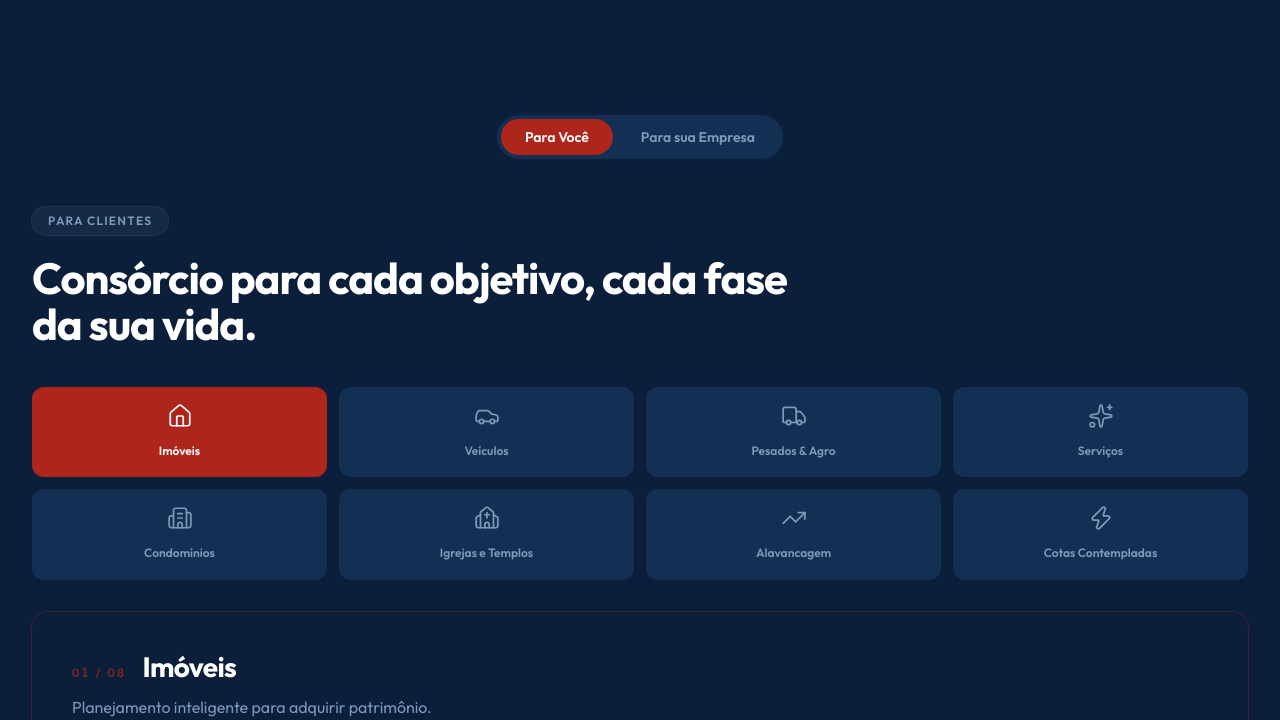
Test: ParaClientes › Tab toggle › switches to "Para sua Empresa" content on click
Click the button "Para sua Empresa". click: click(698, 137)
box: [617,119,779,155]
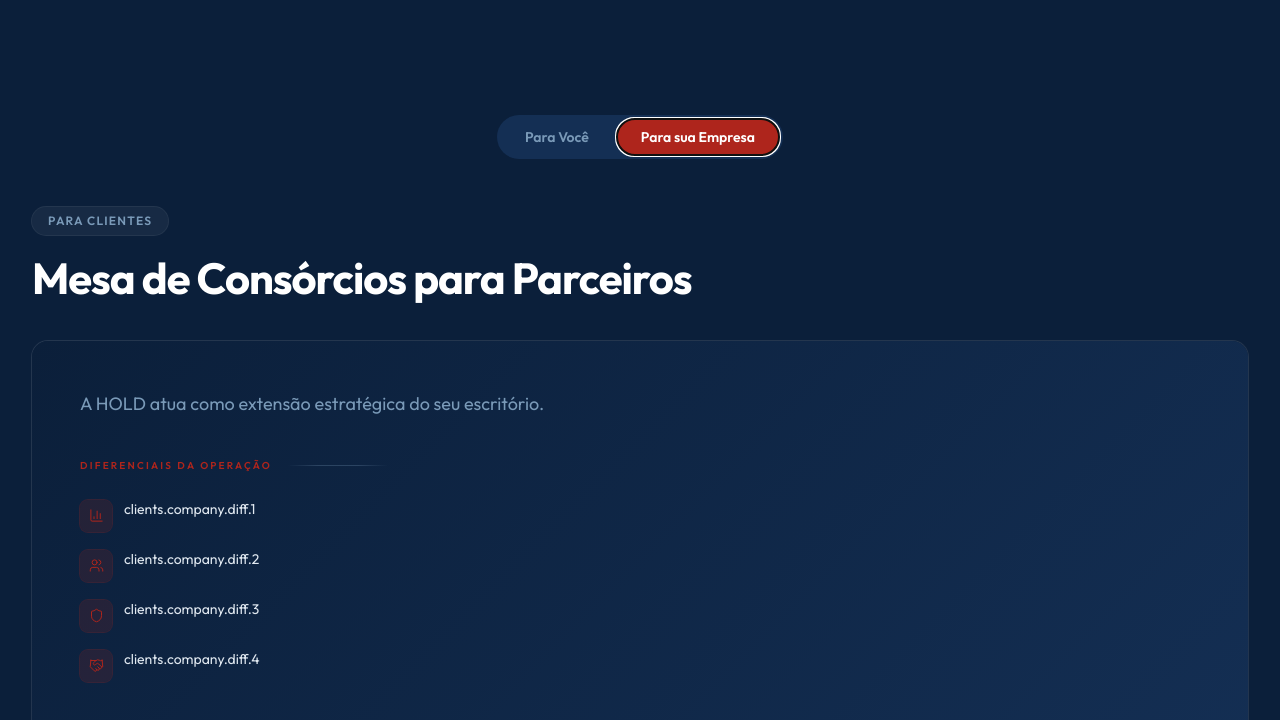
Result: the heading "Mesa de Consórcios para Parceiros" is shown at [32,255,800,301]
